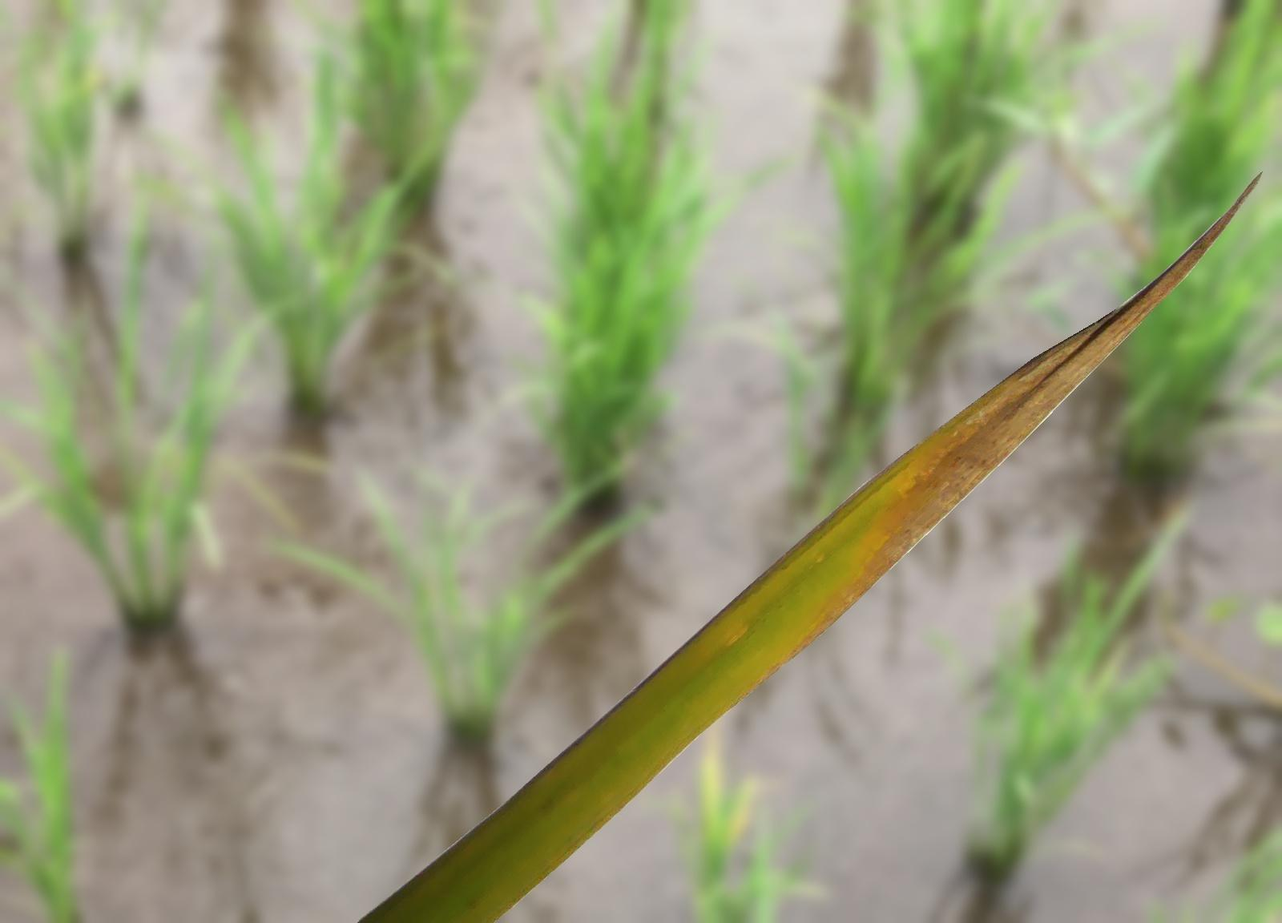BLB: (725, 173, 1261, 708)
LEAF: (358, 171, 1262, 922)
